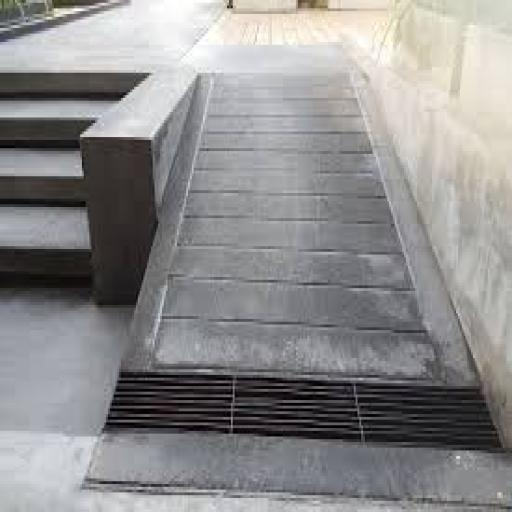ramp: (120, 68, 481, 388)
stairs: (0, 72, 149, 290)
